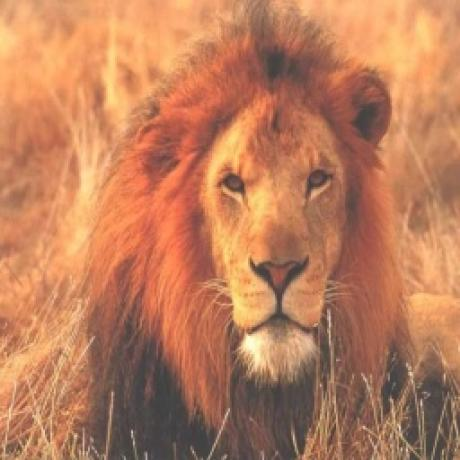Lion: (85, 0, 460, 460)
